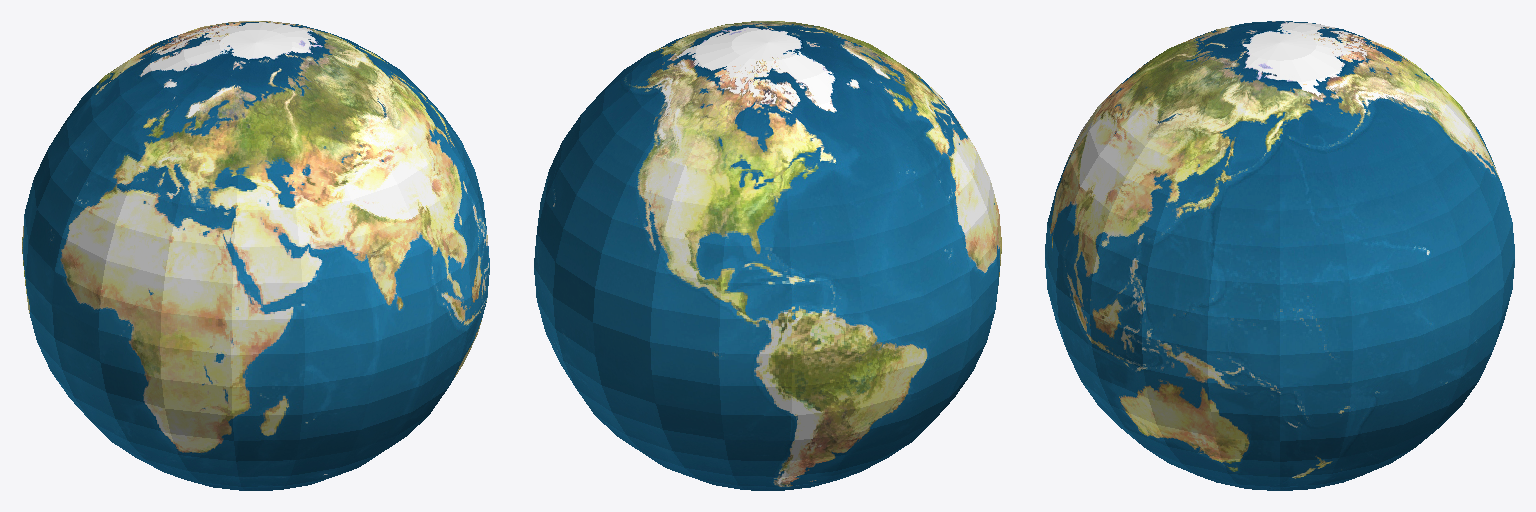
The picture shows the model from 3 angles: view 1: azimuth 30°, elevation 25°; view 2: azimuth 150°, elevation 25°; view 3: azimuth 270°, elevation 25°; orthographic projection.
Bounding box in the file's own units: 2.01 × 2.01 × 2.01.
Materials: 1 (1 with a texture image).